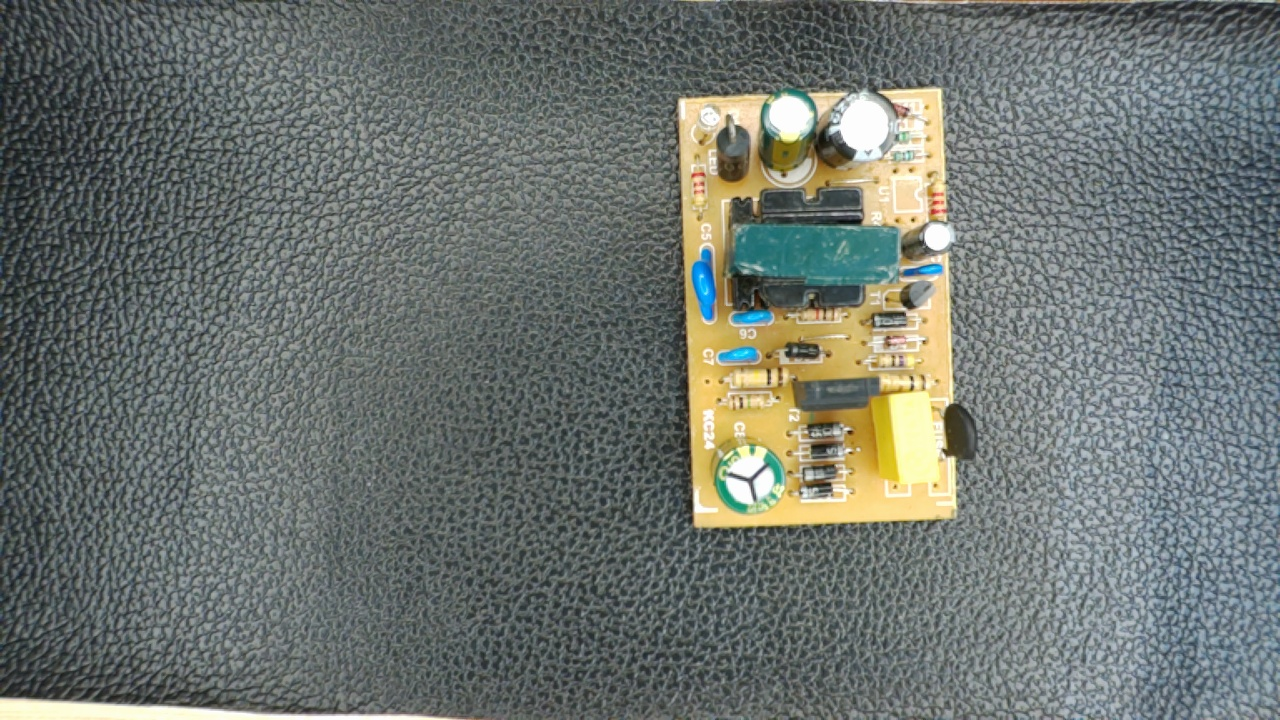fuse: (927, 398, 981, 480)
hv_capacitor: (705, 437, 791, 518)
mov: (684, 242, 725, 326)
